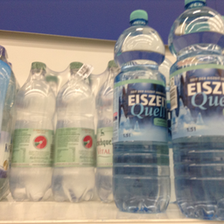water: (168, 1, 223, 224), (113, 9, 172, 214), (5, 62, 57, 197), (53, 63, 97, 201)
